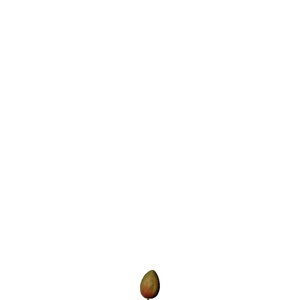mamão: (139, 270, 165, 299)
